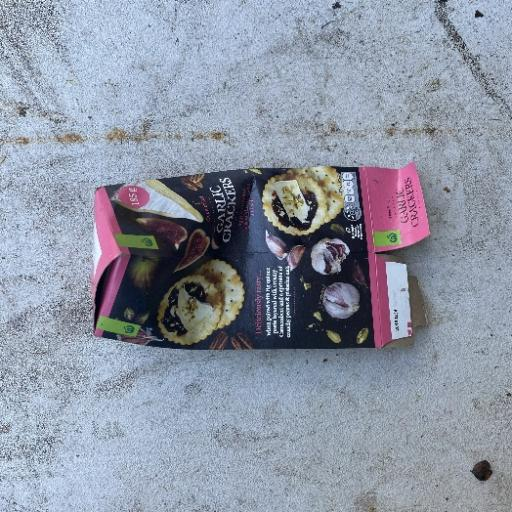Cardboard: (88, 162, 431, 351)
